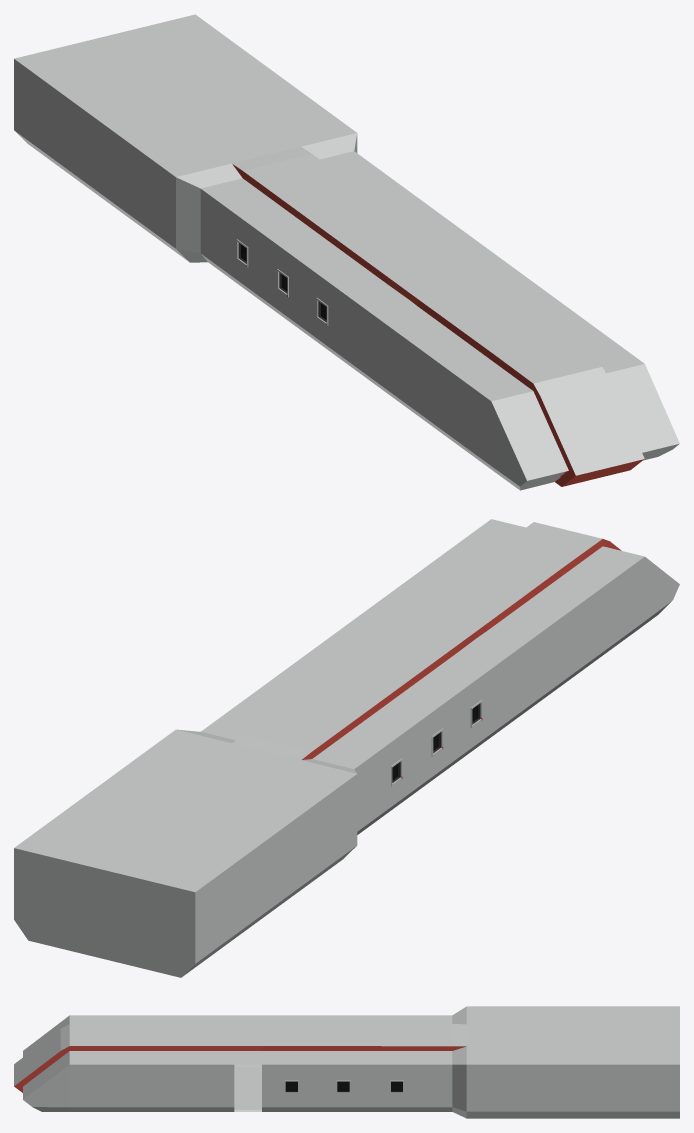
Rendered from barkas1.fbx.
3 views of the same model, one above another, from view 1: azimuth 30°, elevation 25°; view 2: azimuth 150°, elevation 25°; view 3: azimuth 270°, elevation 25° (orthographic). The views are drawn at different scales.
Visible parts, largest first — view 1: SpacePlane; view 2: SpacePlane; view 3: SpacePlane.
Boxes of the visible parts, x1,y1,x2,y2 form: SpacePlane: (14, 14, 679, 490); SpacePlane: (14, 519, 679, 977); SpacePlane: (14, 1006, 679, 1118).
Size of the model in its own units: 1625 by 768 by 7847.
Materials: 2 (1 with a texture image).
